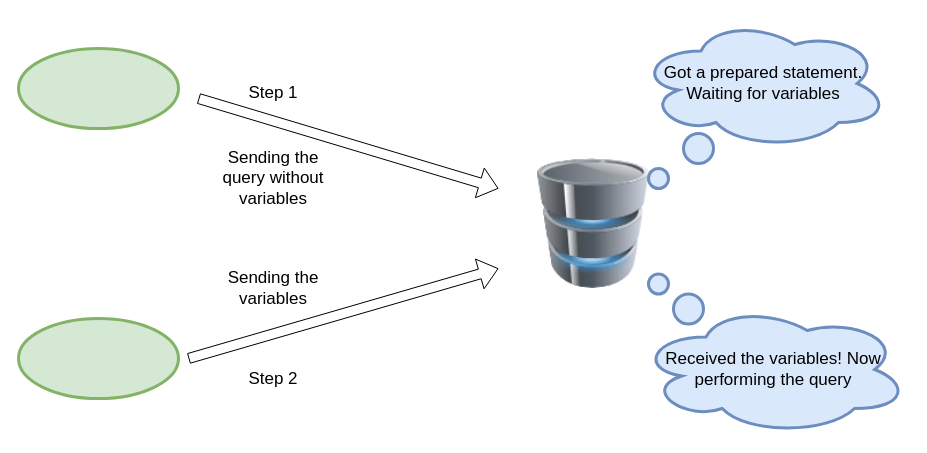
Some shapes in this 927 by 453 pixel diagram are drawn without their labels. The shapes that lost their labels are listed below. From the top down, each one's centre as x and y in pixels, then its label:
At (98,88): "Query Select ... from ... where id = ?".
At (98,358): "var id = 2".
